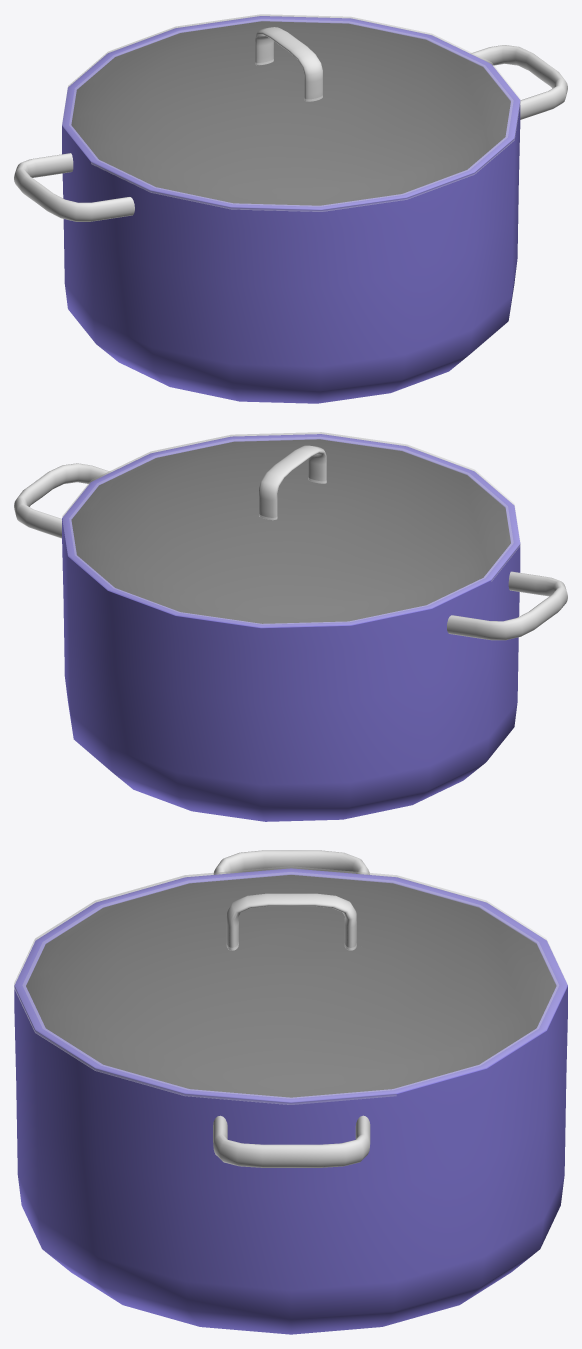
The model's file is Pot.glb.
The picture shows the model from 3 angles, top to bottom: view 1: azimuth 30°, elevation 25°; view 2: azimuth 150°, elevation 25°; view 3: azimuth 270°, elevation 25°; orthographic projection. The views are drawn at different scales.
Parts seen in each view (by area): view 1: Cylinder.006, Cylinder.009, Cylinder.007, Cylinder.008, Cylinder.010; view 2: Cylinder.006, Cylinder.009, Cylinder.007, Cylinder.008, Cylinder.010; view 3: Cylinder.006, Cylinder.009, Cylinder.008, Cylinder.007, Cylinder.010.
Part boxes in pixels (x1,y1,x2,y2): Cylinder.006: [62, 16, 520, 403]; Cylinder.009: [62, 14, 520, 211]; Cylinder.007: [14, 153, 134, 221]; Cylinder.008: [470, 45, 567, 119]; Cylinder.010: [255, 27, 322, 101]; Cylinder.006: [62, 434, 520, 821]; Cylinder.009: [62, 432, 520, 627]; Cylinder.007: [447, 571, 567, 640]; Cylinder.008: [14, 463, 110, 538]; Cylinder.010: [259, 445, 326, 520]; Cylinder.006: [14, 868, 567, 1334]; Cylinder.009: [14, 866, 567, 1104]; Cylinder.008: [213, 1115, 370, 1167]; Cylinder.007: [213, 850, 369, 874]; Cylinder.010: [226, 893, 356, 950].
Bounding box in the file's own units: 2.58 × 1.37 × 2.
